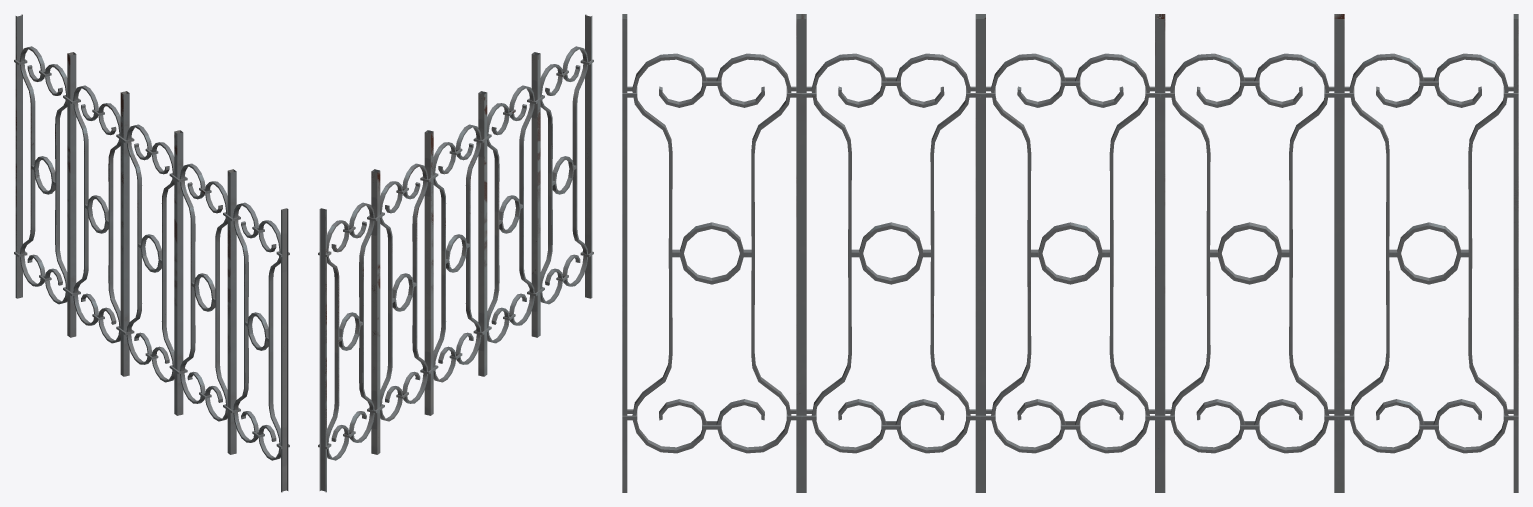
File: Fence_F2 (3).fbx
3 renders of one model, left to right at view 1: azimuth 30°, elevation 25°; view 2: azimuth 150°, elevation 25°; view 3: azimuth 270°, elevation 25°, orthographic. The views are drawn at different scales.
Parts seen in each view (by area): view 1: Fence_F2 (3); view 2: Fence_F2 (3); view 3: Fence_F2 (3).
Boxes of the visible parts, x1,y1,x2,y2 form: Fence_F2 (3): (14,14,289,492); Fence_F2 (3): (318,14,593,492); Fence_F2 (3): (622,14,1518,492).
Bounding box in the file's own units: 0.0408 × 2.12 × 1.24.
1 material, 1 textured.
